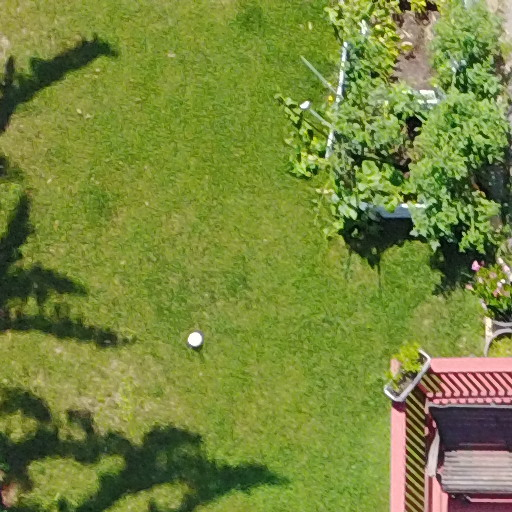container: (185, 326, 206, 353)
flower pot: (373, 332, 430, 410)
